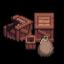Obstacle: (0, 8, 59, 58)
